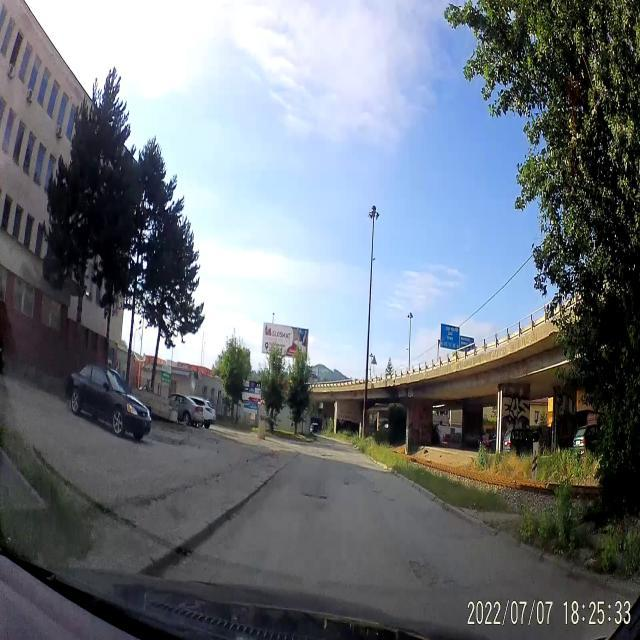Pothole: (406, 556, 448, 596), (295, 490, 329, 500)
